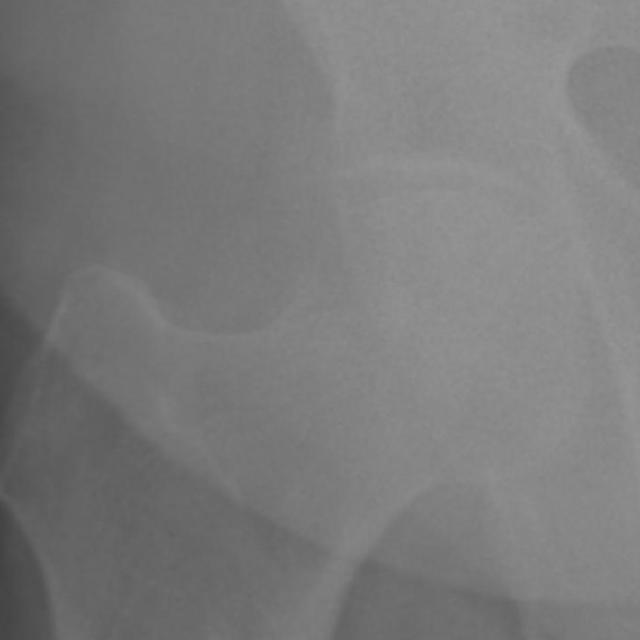Fitted_femural_head: (316, 188, 432, 316)
